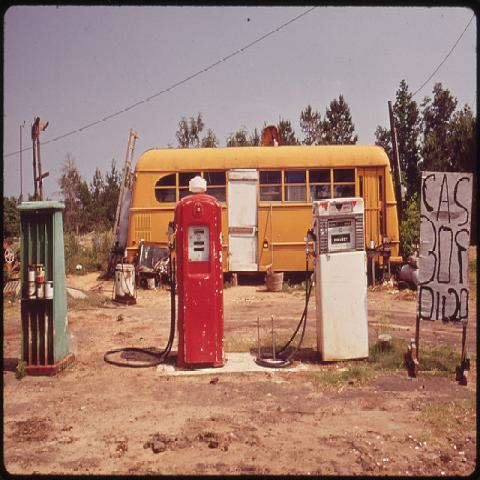bus: (125, 146, 401, 272)
